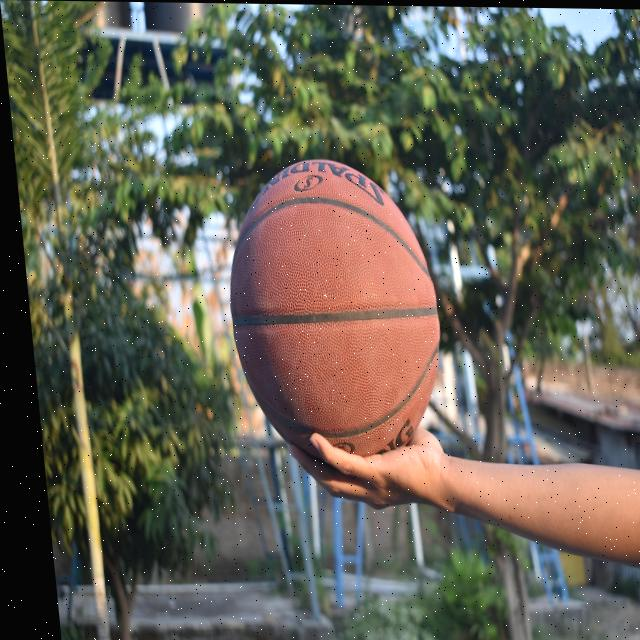Basketball: (217, 157, 455, 469)
